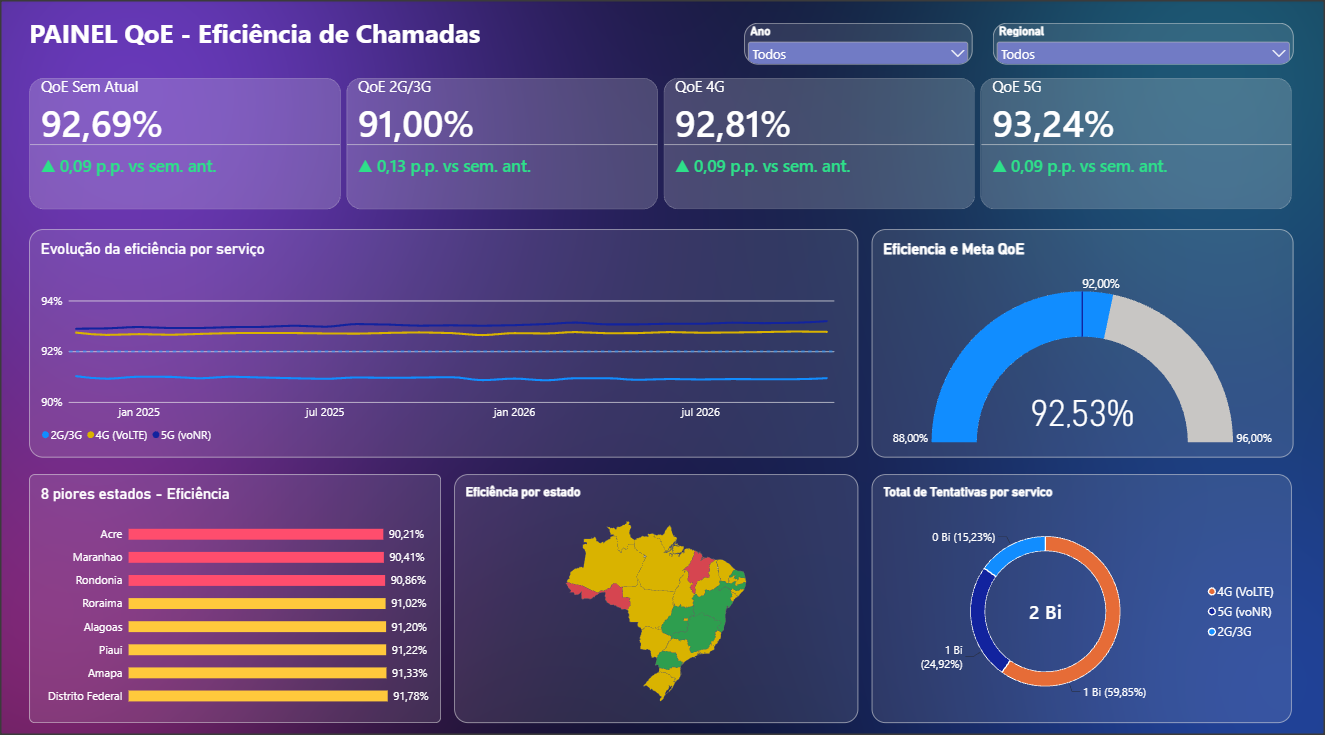

This screenshot's page, from the dashboard's own definition file:
{"tool":"powerbi","page":{"name":"Página 4","canvas":[1920,1080],"ordinal":0},"visuals":[{"type":"cardVisual","fields":{"Data":["fato_qoe_diario.QoE Sem Atual","fato_qoe_diario.QoE 2G/3G","fato_qoe_diario.QoE 4G","fato_qoe_diario.QoE 5G"]},"box":[45,115,1830,190],"z":0},{"type":"lineChart","title":"Evolução da eficiência por serviço","fields":{"Category":["dim_calendario.ano_mes"],"Series":["fato_qoe_diario.servico"],"Y":["fato_qoe_diario.Eficiencia"]},"box":[45,335,1200,330],"z":1000},{"type":"gauge","fields":{"TargetValue":["fato_qoe_diario.Meta QoE"],"Y":["fato_qoe_diario.Eficiencia"]},"box":[1265,335,610,330],"z":1001},{"type":"barChart","title":"8 piores estados - Eficiência","fields":{"Category":["fato_qoe_diario.estado_nome"],"Y":["fato_qoe_diario.Eficiencia"]},"box":[45,690,596,360],"z":1002},{"type":"shapeMap","title":"Eficiência por estado","fields":{"Category":["fato_qoe_diario.estado_nome"]},"box":[660.5,689.5,584.5,360.1],"z":1003},{"type":"donutChart","fields":{"Category":["fato_qoe_diario.servico"],"Y":["fato_qoe_diario.Total de Tentativas"]},"box":[1265,689.5,608,360.1],"z":1004},{"type":"slicer","fields":{"Values":["fato_qoe_diario.regional"]},"box":[1440,36,435,60],"z":1005},{"type":"slicer","fields":{"Values":["dim_calendario.ano"]},"box":[1080.4,36.2,330,60],"z":1006},{"type":"textbox","box":[45,26,800,70],"z":1007}]}

Visuals, with their boxes in screenshot pixels (x1, y1, x2, y2), scaled from the page's 1920x1080 canvas onto the 1325x735 screenshot:
cardVisual - fato_qoe_diario.QoE Sem Atual x fato_qoe_diario.QoE 2G/3G: (x1=31, y1=78, x2=1294, y2=208)
"Evolução da eficiência por serviço" lineChart: (x1=31, y1=228, x2=859, y2=453)
gauge - fato_qoe_diario.Meta QoE x fato_qoe_diario.Eficiencia: (x1=873, y1=228, x2=1294, y2=453)
"8 piores estados - Eficiência" barChart: (x1=31, y1=470, x2=442, y2=715)
"Eficiência por estado" shapeMap: (x1=456, y1=469, x2=859, y2=714)
donutChart - fato_qoe_diario.servico x fato_qoe_diario.Total de Tentativas: (x1=873, y1=469, x2=1293, y2=714)
slicer - fato_qoe_diario.regional: (x1=994, y1=24, x2=1294, y2=65)
slicer - dim_calendario.ano: (x1=746, y1=25, x2=973, y2=65)
textbox: (x1=31, y1=18, x2=583, y2=65)
